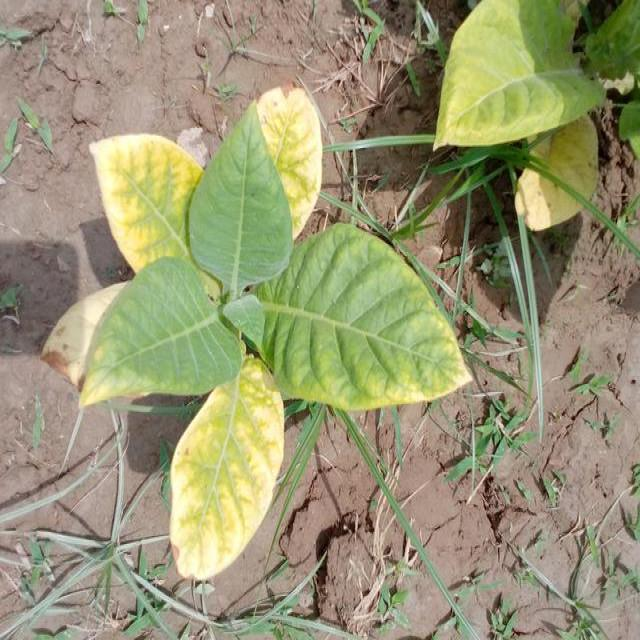crop: (55, 92, 459, 544)
